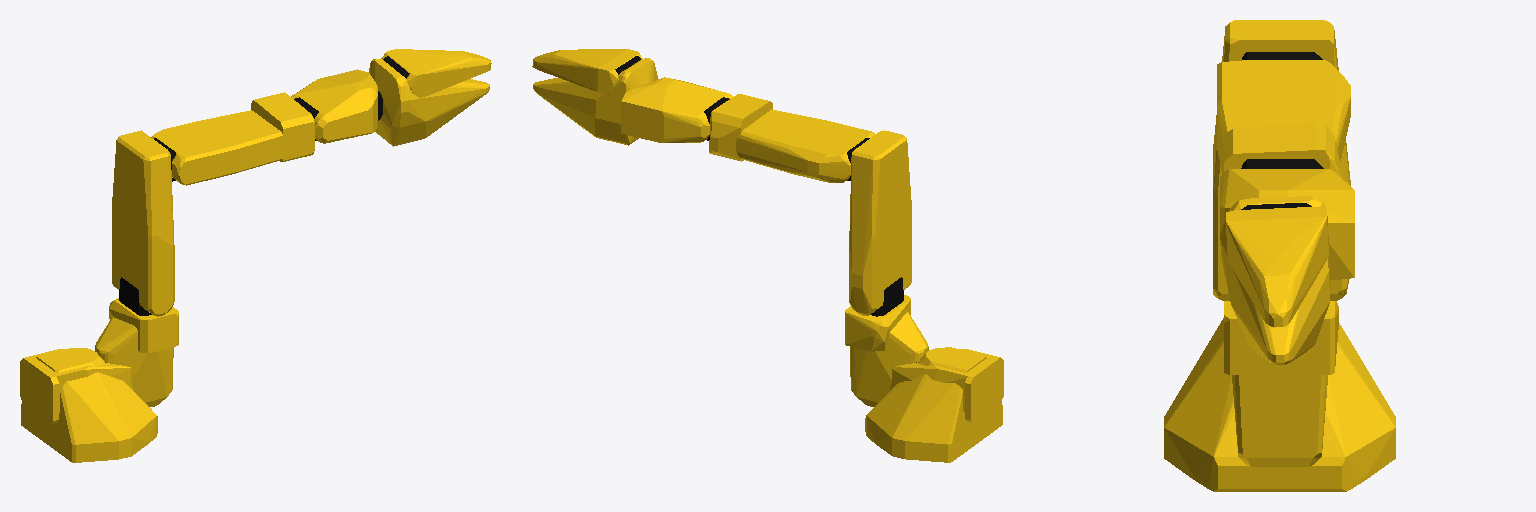
robot.urdf — so101_new_calib:
<?xml version="1.0" encoding="utf-8"?>
<!-- Generated using onshape-to-robot -->
<!-- Onshape https://cad.onshape.com/documents/7715cc284bb430fe6dab4ffd/w/4fd0791b683777b02f8d975a/e/826c553ede3b7592eb9ca800 -->
<robot name="so101_new_calib">

  <!-- Materials -->
  <material name="3d_printed">
    <color rgba="1.0 0.82 0.12 1.0"/>
  </material>
  <material name="sts3215">
    <color rgba="0.1 0.1 0.1 1.0"/>
  </material>

  <!-- Link base -->
  <link name="base_link">
    <inertial>
      <origin xyz="0.0137179 -5.19711e-05 0.0334843" rpy="0 0 0"/>
      <mass value="0.147"/>
      <inertia ixx="0.000114686" ixy="-4.59787e-07" ixz="4.97151e-06" iyy="0.000136117" iyz="9.75275e-08" izz="0.000130364"/>
    </inertial>
    <!-- Part base_motor_holder_so101_v1 -->
    <visual>
      <origin xyz="-0.00636471 -9.94414e-05 -0.0024" rpy="1.5708 -1.67685e-15 1.5708"/>
      <geometry>
        <mesh filename="assets/base_motor_holder_so101_v1_hull.stl"/>
      </geometry>
      <material name="3d_printed"/>
    </visual>
    <collision>
      <origin xyz="-0.00636471 -9.94414e-05 -0.0024" rpy="1.5708 -1.67685e-15 1.5708"/>
      <geometry>
        <mesh filename="assets/base_motor_holder_so101_v1_hull.stl"/>
      </geometry>
    </collision>
    <!-- Part base_so101_v2 -->
    <visual>
      <origin xyz="-0.00636471 -8.97657e-09 -0.0024" rpy="1.5708 -2.78073e-29 1.5708"/>
      <geometry>
        <mesh filename="assets/base_so101_v2_hull.stl"/>
      </geometry>
      <material name="3d_printed"/>
    </visual>
    <collision>
      <origin xyz="-0.00636471 -8.97657e-09 -0.0024" rpy="1.5708 -2.78073e-29 1.5708"/>
      <geometry>
        <mesh filename="assets/base_so101_v2_hull.stl"/>
      </geometry>
    </collision>
    <!-- Part sts3215_03a_v1 -->
    <visual>
      <origin xyz="0.0263353 -8.97657e-09 0.0437" rpy="-8.21148e-16 7.84513e-18 1.249e-15"/>
      <geometry>
        <mesh filename="assets/sts3215_03a_v1_hull.stl"/>
      </geometry>
      <material name="sts3215"/>
    </visual>
    <collision>
      <origin xyz="0.0263353 -8.97657e-09 0.0437" rpy="-8.21148e-16 7.84513e-18 1.249e-15"/>
      <geometry>
        <mesh filename="assets/sts3215_03a_v1_hull.stl"/>
      </geometry>
    </collision>
    <!-- Part waveshare_mounting_plate_so101_v2 -->
    <visual>
      <origin xyz="-0.0309827 -0.000199441 0.0474" rpy="1.5708 -1.35493e-14 1.5708"/>
      <geometry>
        <mesh filename="assets/waveshare_mounting_plate_so101_v2_hull.stl"/>
      </geometry>
      <material name="3d_printed"/>
    </visual>
    <collision>
      <origin xyz="-0.0309827 -0.000199441 0.0474" rpy="1.5708 -1.35493e-14 1.5708"/>
      <geometry>
        <mesh filename="assets/waveshare_mounting_plate_so101_v2_hull.stl"/>
      </geometry>
    </collision>
  </link>

  <!-- Link shoulder -->
  <link name="shoulder_link">
    <inertial>
      <origin xyz="-0.0307604 -1.66727e-05 -0.0252713" rpy="0 0 0"/>
      <mass value="0.100006"/>
      <inertia ixx="8.3759e-05" ixy="7.55525e-08" ixz="-1.16342e-06" iyy="8.10403e-05" iyz="1.54663e-07" izz="2.39783e-05"/>
    </inertial>
    <!-- Part sts3215_03a_v1_2 -->
    <visual>
      <origin xyz="-0.0303992 0.000422241 -0.0417" rpy="1.5708 1.5708 0"/>
      <geometry>
        <mesh filename="assets/sts3215_03a_v1_hull.stl"/>
      </geometry>
      <material name="sts3215"/>
    </visual>
    <collision>
      <origin xyz="-0.0303992 0.000422241 -0.0417" rpy="1.5708 1.5708 0"/>
      <geometry>
        <mesh filename="assets/sts3215_03a_v1_hull.stl"/>
      </geometry>
    </collision>
    <!-- Part motor_holder_so101_base_v1 -->
    <visual>
      <origin xyz="-0.0675992 -0.000177759 0.0158499" rpy="1.5708 -1.5708 0"/>
      <geometry>
        <mesh filename="assets/motor_holder_so101_base_v1_hull.stl"/>
      </geometry>
      <material name="3d_printed"/>
    </visual>
    <collision>
      <origin xyz="-0.0675992 -0.000177759 0.0158499" rpy="1.5708 -1.5708 0"/>
      <geometry>
        <mesh filename="assets/motor_holder_so101_base_v1_hull.stl"/>
      </geometry>
    </collision>
    <!-- Part rotation_pitch_so101_v1 -->
    <visual>
      <origin xyz="0.0122008 2.22413e-05 0.0464" rpy="-1.5708 2.35221e-33 0"/>
      <geometry>
        <mesh filename="assets/rotation_pitch_so101_v1_hull.stl"/>
      </geometry>
      <material name="3d_printed"/>
    </visual>
    <collision>
      <origin xyz="0.0122008 2.22413e-05 0.0464" rpy="-1.5708 2.35221e-33 0"/>
      <geometry>
        <mesh filename="assets/rotation_pitch_so101_v1_hull.stl"/>
      </geometry>
    </collision>
  </link>

  <!-- Link upper_arm -->
  <link name="upper_arm_link">
    <inertial>
      <origin xyz="-0.0898471 -0.00838224 0.0184089" rpy="0 0 0"/>
      <mass value="0.103"/>
      <inertia ixx="4.08002e-05" ixy="-1.97819e-05" ixz="-4.03016e-08" iyy="0.000147318" iyz="8.97326e-09" izz="0.000142487"/>
    </inertial>
    <!-- Part sts3215_03a_v1_3 -->
    <visual>
      <origin xyz="-0.11257 -0.0155 0.0187" rpy="-3.14159 -5.27356e-16 -1.5708"/>
      <geometry>
        <mesh filename="assets/sts3215_03a_v1_hull.stl"/>
      </geometry>
      <material name="sts3215"/>
    </visual>
    <collision>
      <origin xyz="-0.11257 -0.0155 0.0187" rpy="-3.14159 -5.27356e-16 -1.5708"/>
      <geometry>
        <mesh filename="assets/sts3215_03a_v1_hull.stl"/>
      </geometry>
    </collision>
    <!-- Part upper_arm_so101_v1 -->
    <visual>
      <origin xyz="-0.065085 0.012 0.0182" rpy="3.14159 -0 -1.30911e-30"/>
      <geometry>
        <mesh filename="assets/upper_arm_so101_v1_hull.stl"/>
      </geometry>
      <material name="3d_printed"/>
    </visual>
    <collision>
      <origin xyz="-0.065085 0.012 0.0182" rpy="3.14159 -0 -1.30911e-30"/>
      <geometry>
        <mesh filename="assets/upper_arm_so101_v1_hull.stl"/>
      </geometry>
    </collision>
  </link>

  <!-- Link lower_arm -->
  <link name="lower_arm_link">
    <inertial>
      <origin xyz="-0.0980701 0.00324376 0.0182831" rpy="0 0 0"/>
      <mass value="0.104"/>
      <inertia ixx="2.87438e-05" ixy="7.41152e-06" ixz="1.26409e-06" iyy="0.000159844" iyz="-4.90188e-08" izz="0.00014529"/>
    </inertial>
    <!-- Part under_arm_so101_v1 -->
    <visual>
      <origin xyz="-0.0648499 -0.032 0.0182" rpy="3.14159 -0 6.67202e-31"/>
      <geometry>
        <mesh filename="assets/under_arm_so101_v1_hull.stl"/>
      </geometry>
      <material name="3d_printed"/>
    </visual>
    <collision>
      <origin xyz="-0.0648499 -0.032 0.0182" rpy="3.14159 -0 6.67202e-31"/>
      <geometry>
        <mesh filename="assets/under_arm_so101_v1_hull.stl"/>
      </geometry>
    </collision>
    <!-- Part motor_holder_so101_wrist_v1 -->
    <visual>
      <origin xyz="-0.0648499 -0.032 0.018" rpy="-3.14159 -2.55351e-15 -1.83387e-30"/>
      <geometry>
        <mesh filename="assets/motor_holder_so101_wrist_v1_hull.stl"/>
      </geometry>
      <material name="3d_printed"/>
    </visual>
    <collision>
      <origin xyz="-0.0648499 -0.032 0.018" rpy="-3.14159 -2.55351e-15 -1.83387e-30"/>
      <geometry>
        <mesh filename="assets/motor_holder_so101_wrist_v1_hull.stl"/>
      </geometry>
    </collision>
    <!-- Part sts3215_03a_v1_4 -->
    <visual>
      <origin xyz="-0.1224 0.0052 0.0187" rpy="-3.14159 -7.88861e-31 -3.14159"/>
      <geometry>
        <mesh filename="assets/sts3215_03a_v1_hull.stl"/>
      </geometry>
      <material name="sts3215"/>
    </visual>
    <collision>
      <origin xyz="-0.1224 0.0052 0.0187" rpy="-3.14159 -7.88861e-31 -3.14159"/>
      <geometry>
        <mesh filename="assets/sts3215_03a_v1_hull.stl"/>
      </geometry>
    </collision>
  </link>

  <!-- Link wrist -->
  <link name="wrist_link">
    <inertial>
      <origin xyz="-0.000103312 -0.0386143 0.0281156" rpy="0 0 0"/>
      <mass value="0.079"/>
      <inertia ixx="3.68263e-05" ixy="1.7893e-08" ixz="-5.28128e-08" iyy="2.5391e-05" iyz="3.6412e-06" izz="2.1e-05"/>
    </inertial>
    <!-- Part sts3215_03a_no_horn_v1 -->
    <visual>
      <origin xyz="8.32667e-17 -0.0424 0.0306" rpy="1.5708 1.5708 0"/>
      <geometry>
        <mesh filename="assets/sts3215_03a_no_horn_v1_hull.stl"/>
      </geometry>
      <material name="sts3215"/>
    </visual>
    <collision>
      <origin xyz="8.32667e-17 -0.0424 0.0306" rpy="1.5708 1.5708 0"/>
      <geometry>
        <mesh filename="assets/sts3215_03a_no_horn_v1_hull.stl"/>
      </geometry>
    </collision>
    <!-- Part wrist_roll_pitch_so101_v2 -->
    <visual>
      <origin xyz="0 -0.028 0.0181" rpy="-1.5708 -1.5708 0"/>
      <geometry>
        <mesh filename="assets/wrist_roll_pitch_so101_v2_hull.stl"/>
      </geometry>
      <material name="3d_printed"/>
    </visual>
    <collision>
      <origin xyz="0 -0.028 0.0181" rpy="-1.5708 -1.5708 0"/>
      <geometry>
        <mesh filename="assets/wrist_roll_pitch_so101_v2_hull.stl"/>
      </geometry>
    </collision>
  </link>

  <!-- Link gripper -->
  <link name="gripper_link">
    <inertial>
      <origin xyz="0.000213627 0.000245138 -0.025187" rpy="0 0 0"/>
      <mass value="0.087"/>
      <inertia ixx="2.75087e-05" ixy="-3.35241e-07" ixz="-5.7352e-06" iyy="4.33657e-05" iyz="-5.17847e-08" izz="3.45059e-05"/>
    </inertial>
    <!-- Part sts3215_03a_v1_5 -->
    <visual>
      <origin xyz="0.0077 0.0001 -0.0234" rpy="-1.5708 -5.19179e-17 -1.66533e-16"/>
      <geometry>
        <mesh filename="assets/sts3215_03a_v1_hull.stl"/>
      </geometry>
      <material name="sts3215"/>
    </visual>
    <collision>
      <origin xyz="0.0077 0.0001 -0.0234" rpy="-1.5708 -5.19179e-17 -1.66533e-16"/>
      <geometry>
        <mesh filename="assets/sts3215_03a_v1_hull.stl"/>
      </geometry>
    </collision>
    <!-- Part wrist_roll_follower_so101_v1 -->
    <visual>
      <origin xyz="8.32667e-17 -0.000218214 0.000949706" rpy="-3.14159 -5.55112e-17 0"/>
      <geometry>
        <mesh filename="assets/wrist_roll_follower_so101_v1_hull.stl"/>
      </geometry>
      <material name="3d_printed"/>
    </visual>
    <collision>
      <origin xyz="8.32667e-17 -0.000218214 0.000949706" rpy="-3.14159 -5.55112e-17 0"/>
      <geometry>
        <mesh filename="assets/wrist_roll_follower_so101_v1_hull.stl"/>
      </geometry>
    </collision>
  </link>

  <!-- Gripper frame (dummy link + fixed joint) -->
  <link name="gripper_frame_link">
    <origin xyz="0 0 0" rpy="0 -0 0"/>
    <inertial>
      <origin xyz="0 0 0" rpy="0 0 0"/>
      <mass value="1e-9"/>
      <inertia ixx="0" ixy="0" ixz="0" iyy="0" iyz="0" izz="0"/>
    </inertial>
  </link>

  <joint name="gripper_frame_joint" type="fixed">
    <origin xyz="-0.0079 -0.000218121 -0.0981274" rpy="0 3.14159 0"/>
    <parent link="gripper_link"/>
    <child link="gripper_frame_link"/>
    <axis xyz="0 0 0"/>
  </joint>

  <!-- Link moving_jaw_so101_v1 -->
  <link name="moving_jaw_so101_v1_link">
    <inertial>
      <origin xyz="-0.00157495 -0.0300244 0.0192755" rpy="0 0 0"/>
      <mass value="0.012"/>
      <inertia ixx="6.61427e-06" ixy="-3.19807e-07" ixz="-5.90717e-09" iyy="1.89032e-06" iyz="-1.09945e-07" izz="5.28738e-06"/>
    </inertial>
    <!-- Part moving_jaw_so101_v1 -->
    <visual>
      <origin xyz="-5.55112e-17 -5.55112e-17 0.0189" rpy="9.53145e-17 6.93889e-18 1.24077e-24"/>
      <geometry>
        <mesh filename="assets/moving_jaw_so101_v1_hull.stl"/>
      </geometry>
      <material name="3d_printed"/>
    </visual>
    <collision>
      <origin xyz="-5.55112e-17 -5.55112e-17 0.0189" rpy="9.53145e-17 6.93889e-18 1.24077e-24"/>
      <geometry>
        <mesh filename="assets/moving_jaw_so101_v1_hull.stl"/>
      </geometry>
    </collision>
  </link>

  <!-- Joint from gripper to moving_jaw_so101_v1 -->
  <joint name="gripper" type="revolute">
    <origin xyz="0.0202 0.0188 -0.0234" rpy="1.5708 -5.24284e-08 -1.41553e-15"/>
    <parent link="gripper_link"/>
    <child link="moving_jaw_so101_v1_link"/>
    <axis xyz="0 0 1"/>
    <limit effort="10" velocity="10" lower="-0.174533" upper="1.74533"/>
  </joint>

  <transmission name="gripper_trans">
    <type>transmission_interface/SimpleTransmission</type>
    <joint name="gripper">
      <hardwareInterface>hardware_interface/PositionJointInterface</hardwareInterface>
    </joint>
    <actuator name="motor6">
      <hardwareInterface>hardware_interface/PositionJointInterface</hardwareInterface>
      <mechanicalReduction>1</mechanicalReduction>
    </actuator>
  </transmission>

  <!-- Joint from wrist to gripper -->
  <joint name="wrist_roll" type="revolute">
    <origin xyz="5.55112e-17 -0.0611 0.0181" rpy="1.5708 0.0486795 3.14159"/>
    <parent link="wrist_link"/>
    <child link="gripper_link"/>
    <axis xyz="0 0 1"/>
    <limit effort="10" velocity="10" lower="-2.74385" upper="2.84121"/>
  </joint>

  <transmission name="wrist_roll_trans">
    <type>transmission_interface/SimpleTransmission</type>
    <joint name="wrist_roll">
      <hardwareInterface>hardware_interface/PositionJointInterface</hardwareInterface>
    </joint>
    <actuator name="motor5">
      <hardwareInterface>hardware_interface/PositionJointInterface</hardwareInterface>
      <mechanicalReduction>1</mechanicalReduction>
    </actuator>
  </transmission>

  <!-- Joint from lower_arm to wrist -->
  <joint name="wrist_flex" type="revolute">
    <origin xyz="-0.1349 0.0052 3.62355e-17" rpy="4.02456e-15 8.67362e-16 -1.5708"/>
    <parent link="lower_arm_link"/>
    <child link="wrist_link"/>
    <axis xyz="0 0 1"/>
    <limit effort="10" velocity="10" lower="-1.65806" upper="1.65806"/>
  </joint>

  <transmission name="wrist_flex_trans">
    <type>transmission_interface/SimpleTransmission</type>
    <joint name="wrist_flex">
      <hardwareInterface>hardware_interface/PositionJointInterface</hardwareInterface>
    </joint>
    <actuator name="motor4">
      <hardwareInterface>hardware_interface/PositionJointInterface</hardwareInterface>
      <mechanicalReduction>1</mechanicalReduction>
    </actuator>
  </transmission>

  <!-- Joint from upper_arm to lower_arm -->
  <!-- Note: 5-degree calibration offset applied to joint limits -->
  <joint name="elbow_flex" type="revolute">
    <origin xyz="-0.11257 -0.028 1.73763e-16" rpy="-3.63608e-16 8.74301e-16 1.5708"/>
    <parent link="upper_arm_link"/>
    <child link="lower_arm_link"/>
    <axis xyz="0 0 1"/>
    <limit effort="10" velocity="10" lower="-1.69" upper="1.69"/>
  </joint>

  <transmission name="elbow_flex_trans">
    <type>transmission_interface/SimpleTransmission</type>
    <joint name="elbow_flex">
      <hardwareInterface>hardware_interface/PositionJointInterface</hardwareInterface>
    </joint>
    <actuator name="motor3">
      <hardwareInterface>hardware_interface/PositionJointInterface</hardwareInterface>
      <mechanicalReduction>1</mechanicalReduction>
    </actuator>
  </transmission>

  <!-- Joint from shoulder to upper_arm -->
  <joint name="shoulder_lift" type="revolute">
    <origin xyz="-0.0303992 -0.0182778 -0.0542" rpy="-1.5708 -1.5708 0"/>
    <parent link="shoulder_link"/>
    <child link="upper_arm_link"/>
    <axis xyz="0 0 1"/>
    <limit effort="10" velocity="10" lower="-1.74533" upper="1.74533"/>
  </joint>

  <transmission name="shoulder_lift_trans">
    <type>transmission_interface/SimpleTransmission</type>
    <joint name="shoulder_lift">
      <hardwareInterface>hardware_interface/PositionJointInterface</hardwareInterface>
    </joint>
    <actuator name="motor2">
      <hardwareInterface>hardware_interface/PositionJointInterface</hardwareInterface>
      <mechanicalReduction>1</mechanicalReduction>
    </actuator>
  </transmission>

  <!-- Joint from base to shoulder -->
  <joint name="shoulder_pan" type="revolute">
    <origin xyz="0.0388353 -8.97657e-09 0.0624" rpy="3.14159 4.18253e-17 -3.14159"/>
    <parent link="base_link"/>
    <child link="shoulder_link"/>
    <axis xyz="0 0 1"/>
    <limit effort="10" velocity="10" lower="-1.91986" upper="1.91986"/>
  </joint>

  <transmission name="shoulder_pan_trans">
    <type>transmission_interface/SimpleTransmission</type>
    <joint name="shoulder_pan">
      <hardwareInterface>hardware_interface/PositionJointInterface</hardwareInterface>
    </joint>
    <actuator name="motor1">
      <hardwareInterface>hardware_interface/PositionJointInterface</hardwareInterface>
      <mechanicalReduction>1</mechanicalReduction>
    </actuator>
  </transmission> 

</robot>

--- Render facts (derived) ---
3 views of the same robot in one strip: view 1: azimuth 30°, elevation 25°; view 2: azimuth 150°, elevation 25°; view 3: azimuth 270°, elevation 25° (orthographic).
Model so101_new_calib with 8 links and 7 joints (6 revolute, 1 fixed), rooted at base_link, posed all joints at 0.
Links seen in each view (by area): view 1: base_link, upper_arm_link, lower_arm_link, shoulder_link, gripper_link, wrist_link, moving_jaw_so101_v1_link; view 2: base_link, upper_arm_link, lower_arm_link, shoulder_link, wrist_link, gripper_link, moving_jaw_so101_v1_link; view 3: base_link, lower_arm_link, shoulder_link, moving_jaw_so101_v1_link, upper_arm_link, wrist_link, gripper_link.
Link boxes in pixels (box(x1,y1,x2,y2)): base_link: box(20, 348, 157, 462); upper_arm_link: box(112, 130, 175, 316); lower_arm_link: box(151, 92, 318, 185); shoulder_link: box(95, 277, 178, 406); gripper_link: box(369, 56, 489, 146); wrist_link: box(291, 69, 382, 143); moving_jaw_so101_v1_link: box(381, 49, 491, 97); base_link: box(865, 347, 1003, 462); upper_arm_link: box(847, 130, 911, 315); lower_arm_link: box(704, 94, 875, 182); shoulder_link: box(845, 277, 928, 406); wrist_link: box(621, 77, 732, 142); gripper_link: box(533, 56, 657, 145); moving_jaw_so101_v1_link: box(532, 49, 642, 94); base_link: box(1164, 318, 1395, 491); lower_arm_link: box(1217, 60, 1350, 178); shoulder_link: box(1224, 301, 1338, 466); moving_jaw_so101_v1_link: box(1226, 206, 1328, 327); upper_arm_link: box(1213, 20, 1350, 300); wrist_link: box(1220, 169, 1354, 280); gripper_link: box(1220, 196, 1329, 364).
Size in the robot's own frame: 0.4313 by 0.113 by 0.2694 metres.
17 mesh visuals loaded from 13 distinct referenced files (13 binary STL).
